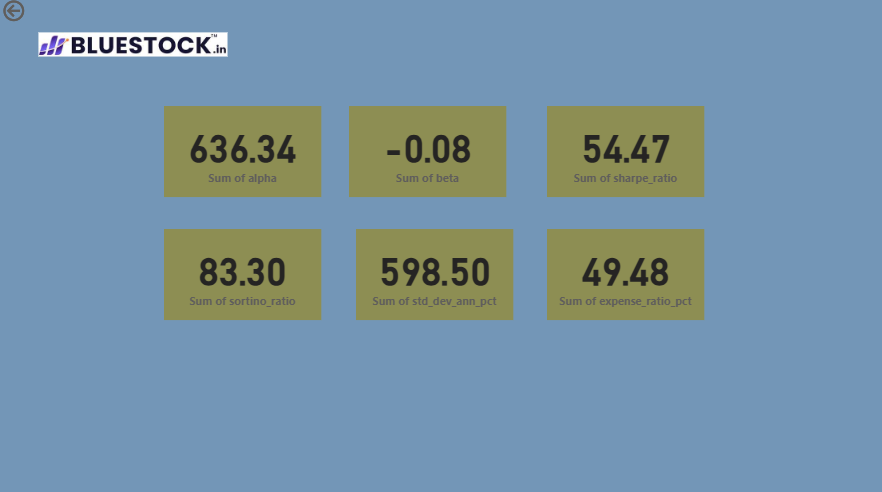

The dashboard page shown, as its layout file describes it:
{"tool":"powerbi","page":{"name":"Fund Detail","canvas":[1280,720],"ordinal":4},"visuals":[{"type":"actionButton","box":[0,0,100,40],"z":0},{"type":"actionButton","box":[0,0,100,40],"z":1000},{"type":"card","fields":{"Values":["Sum(alpha_beta.alpha)"]},"box":[237.7,158,227.5,131.9],"z":2000},{"type":"card","fields":{"Values":["Sum(alpha_beta.beta)"]},"box":[505.8,158,227.5,131.9],"z":3000},{"type":"card","fields":{"Values":["Sum(clean_scheme_performance.sharpe_ratio)"]},"box":[792.8,158,227.5,131.9],"z":4000},{"type":"card","fields":{"Values":["Sum(clean_scheme_performance.sortino_ratio)"]},"box":[237.7,336.2,227.5,131.9],"z":5000},{"type":"card","fields":{"Values":["Sum(clean_scheme_performance.std_dev_ann_pct)"]},"box":[515.9,336.2,227.5,131.9],"z":6000},{"type":"card","fields":{"Values":["Sum(fund_scorecard.expense_ratio_pct)"]},"box":[792.8,336.2,227.5,131.9],"z":7000},{"type":"image","box":[50.7,20.3,284.1,97.1],"z":7001}]}

Visuals, with their boxes in screenshot pixels (x1, y1, x2, y2), scaled from the page's 1280x720 canvas onto the 882x492 screenshot:
actionButton: 0/0/69/27
actionButton: 0/0/69/27
card - Sum(alpha_beta.alpha): 164/108/321/198
card - Sum(alpha_beta.beta): 349/108/505/198
card - Sum(clean_scheme_performance.sharpe_ratio): 546/108/703/198
card - Sum(clean_scheme_performance.sortino_ratio): 164/230/321/320
card - Sum(clean_scheme_performance.std_dev_ann_pct): 355/230/512/320
card - Sum(fund_scorecard.expense_ratio_pct): 546/230/703/320
image: 35/14/231/80
